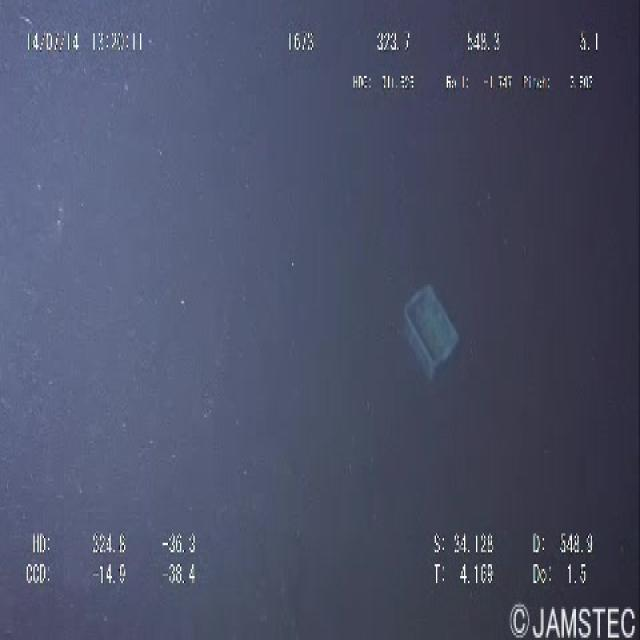plastic: (394, 251, 466, 389)
